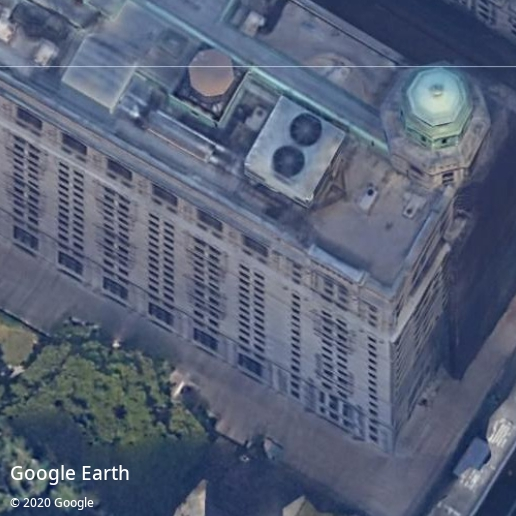Vent: (290, 113, 323, 147), (272, 145, 305, 177)
